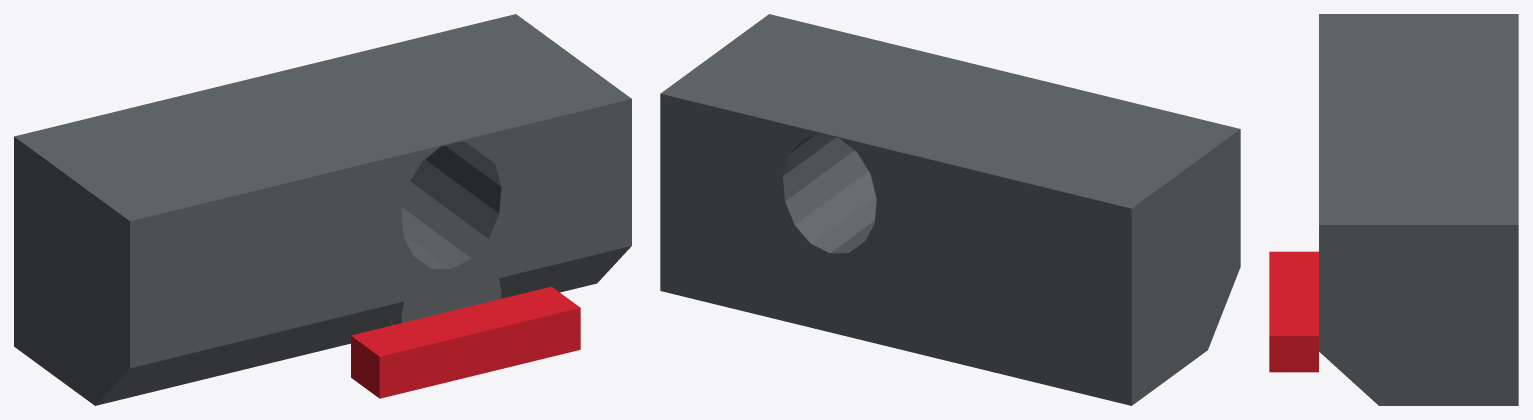
The model's file is tinker.obj.
The picture shows the model from 3 angles, left to right: view 1: azimuth 30°, elevation 25°; view 2: azimuth 150°, elevation 25°; view 3: azimuth 270°, elevation 25°; orthographic projection. The views are drawn at different scales.
Parts seen in each view (by area): view 1: group_0_6383466, textPlaceholder; view 2: group_0_6383466; view 3: group_0_6383466, textPlaceholder.
Part boxes in pixels (x1=…): group_0_6383466: x1=14, y1=14, x2=631, y2=405; textPlaceholder: x1=351, y1=286, x2=580, y2=398; group_0_6383466: x1=660, y1=14, x2=1240, y2=405; group_0_6383466: x1=1319, y1=14, x2=1518, y2=405; textPlaceholder: x1=1269, y1=251, x2=1318, y2=372.
Size of the model in its own units: 50 by 20 by 25.
